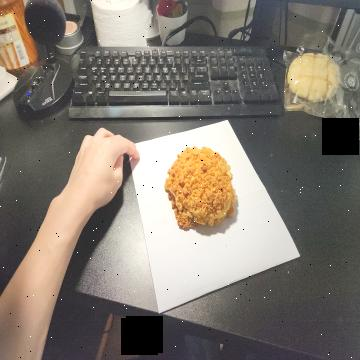soboru_bread: (163, 144, 236, 232)
